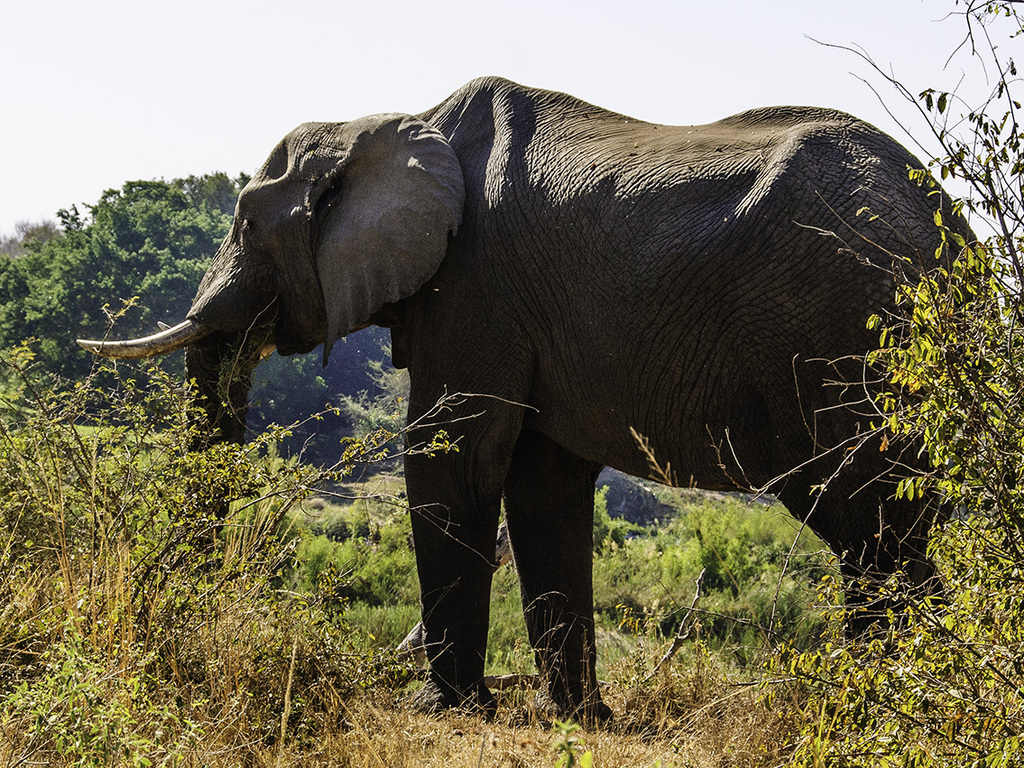Tree: (0, 166, 391, 463)
